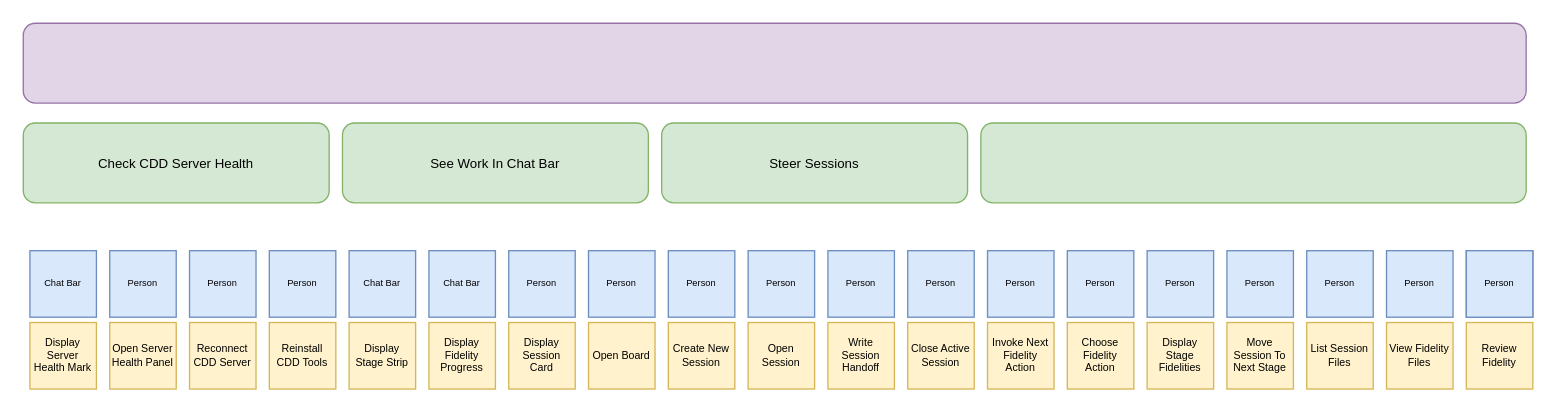
The diagram is 1556 pixels wide and 412 high, and some of its shapes have lost their labels. The shapes that lost their labels are listed below. From the top down, each one's box as (x1, y1, x2, y2) in pixels, then its label:
(22, 22, 1526, 103): Move Work Forward From Chat Bar
(980, 122, 1526, 203): Guide Work Through Practices
